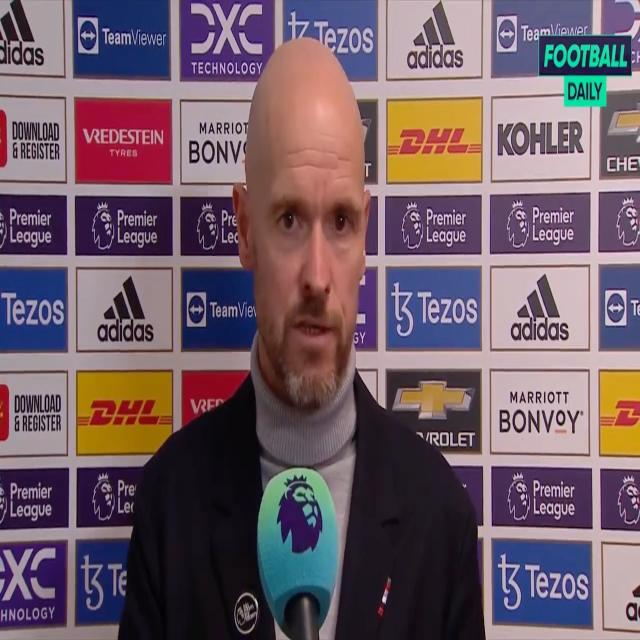Adidas: (510, 271, 572, 342), (406, 1, 465, 72), (96, 274, 155, 344)
Chevrolet: (394, 380, 478, 449)
Kohler: (497, 119, 584, 158)
TeamViewer: (79, 18, 168, 55)
